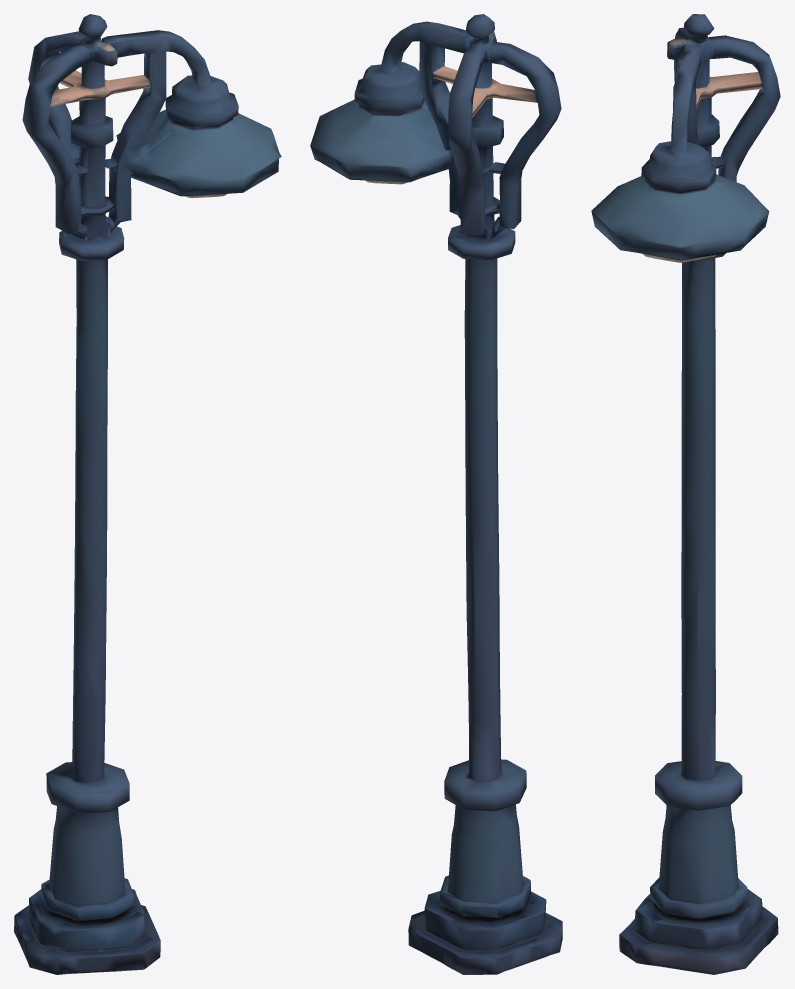
File: lamp.glb
3 views of the same model, side by side, from view 1: azimuth 30°, elevation 25°; view 2: azimuth 150°, elevation 25°; view 3: azimuth 270°, elevation 25° (orthographic).
Visible parts, largest first — view 1: tripo_node_3ca42dcf-fc4d-4b47-ae08-e1e35f527cfa; view 2: tripo_node_3ca42dcf-fc4d-4b47-ae08-e1e35f527cfa; view 3: tripo_node_3ca42dcf-fc4d-4b47-ae08-e1e35f527cfa.
Part boxes in pixels (x1,y1,x2,y2): tripo_node_3ca42dcf-fc4d-4b47-ae08-e1e35f527cfa: (14,14,281,974); tripo_node_3ca42dcf-fc4d-4b47-ae08-e1e35f527cfa: (310,14,562,974); tripo_node_3ca42dcf-fc4d-4b47-ae08-e1e35f527cfa: (591,14,780,974).
Size of the model in its own units: 0.2678 by 0.9801 by 0.1807.
1 material, 1 textured.
